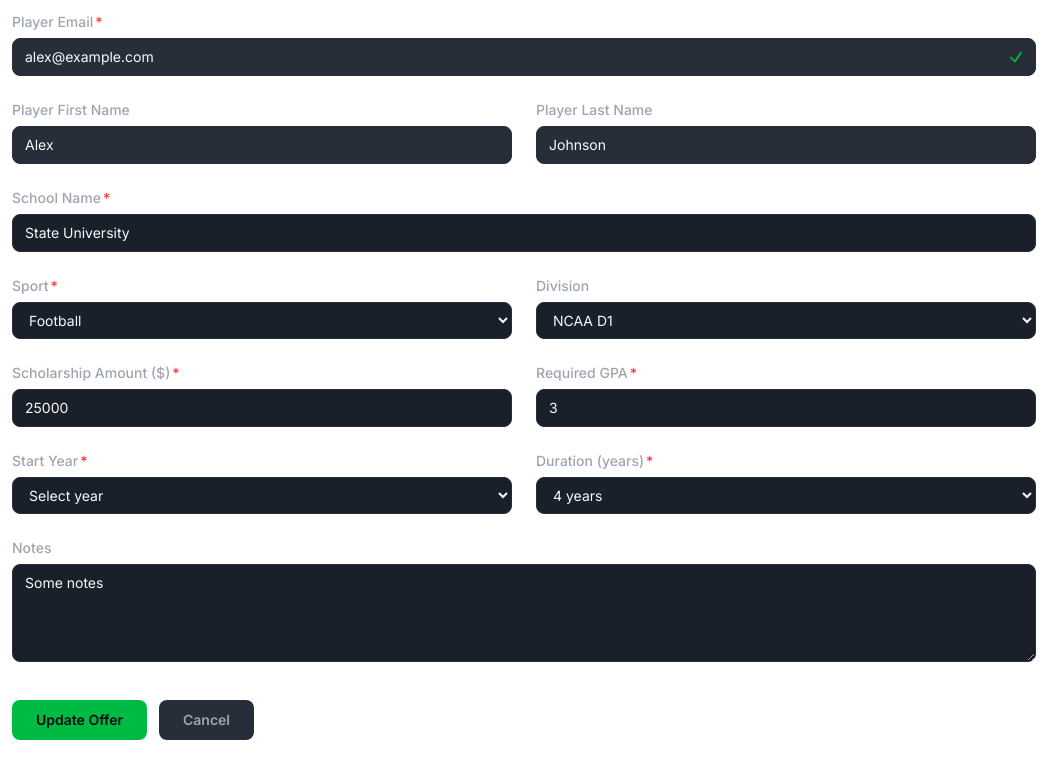
Scenario: ScholarshipForm — validation › shows email required error when submitting empty form
Clear the field labelled "School Name*" at point(524, 233), box [12,214,1036,252]
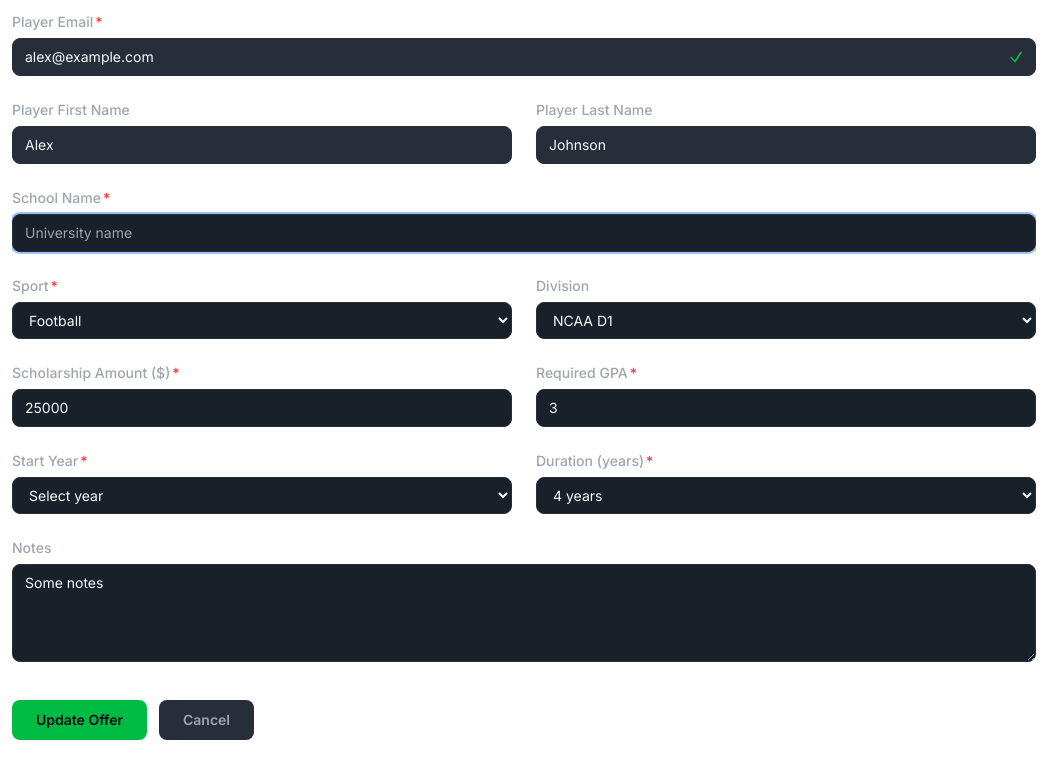
Click the button "Update Offer" at point(80, 720), box [12,700,147,740]
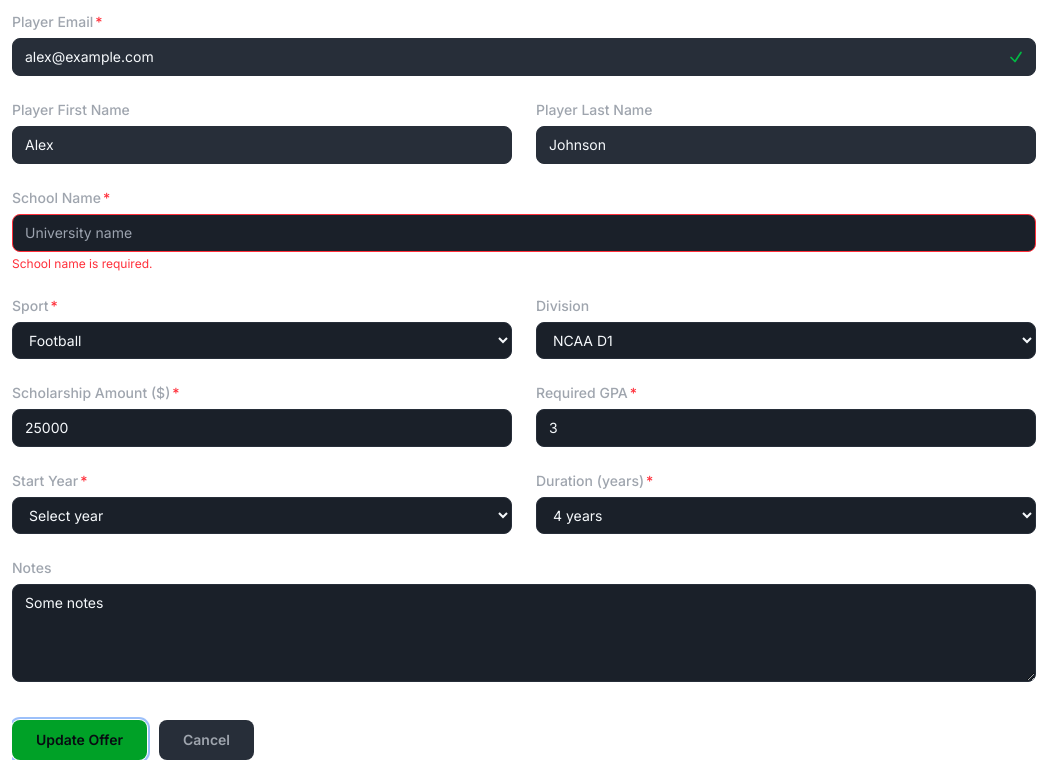
Expected: the text "School name is required." is shown, [12,256,152,271]
